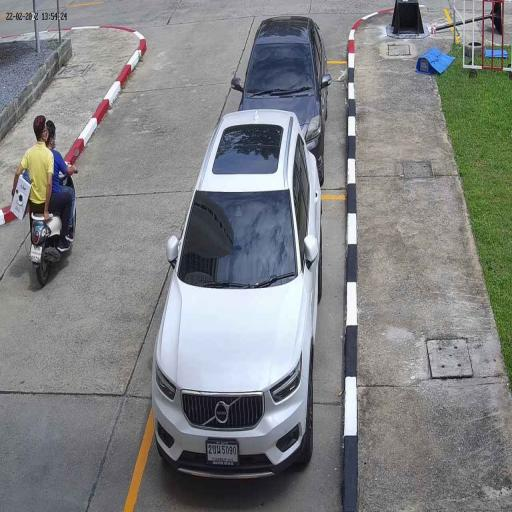car: (150, 108, 320, 476), (236, 12, 328, 154)
motorcycle: (27, 210, 78, 291)
